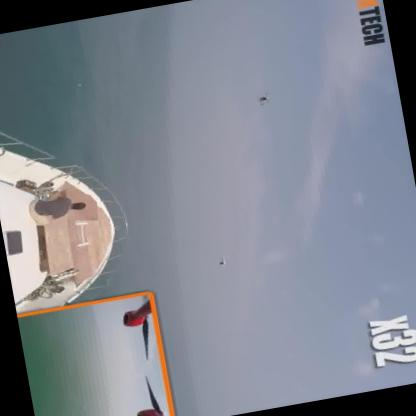drone: (251, 89, 276, 111), (211, 253, 232, 272)
